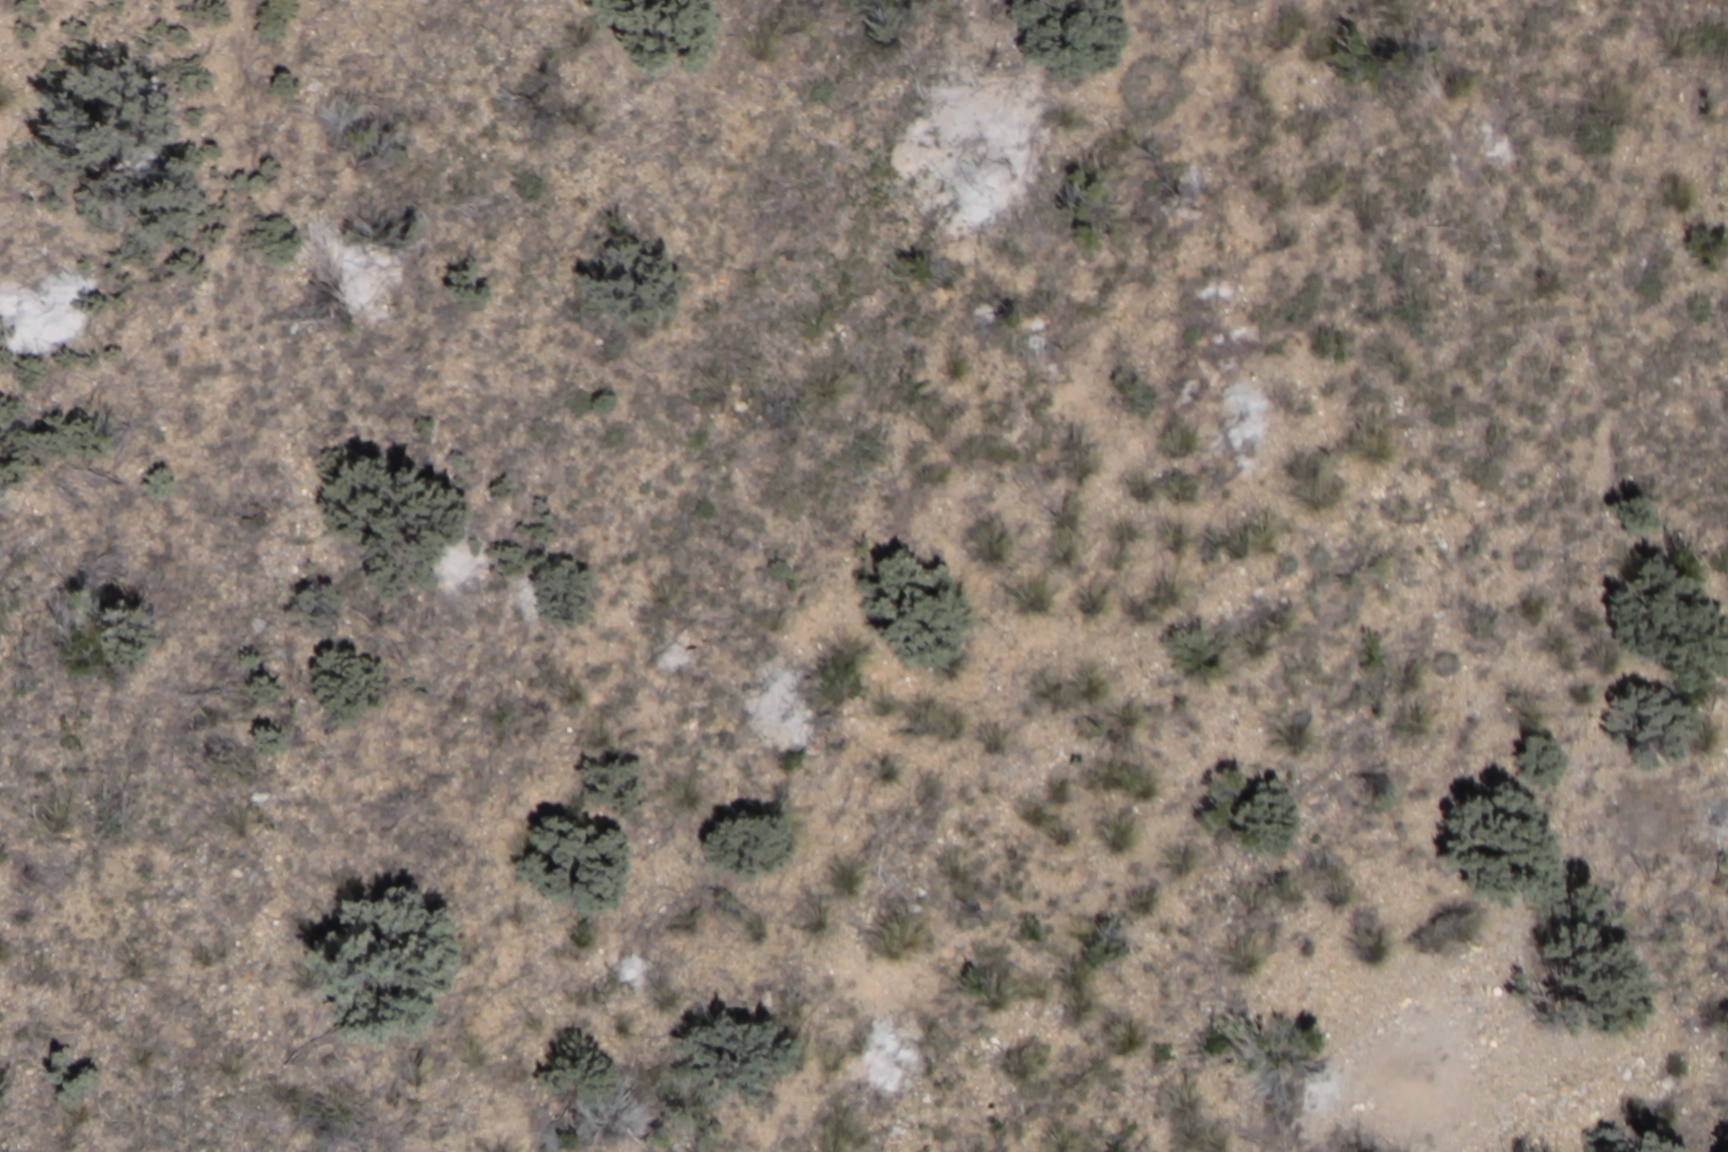burrow: (1335, 1035, 1471, 1131)
